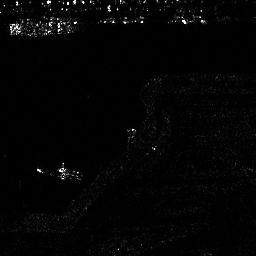ship: (8, 20, 76, 36), (36, 167, 84, 182)
